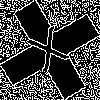X: (25, 25, 77, 82)
